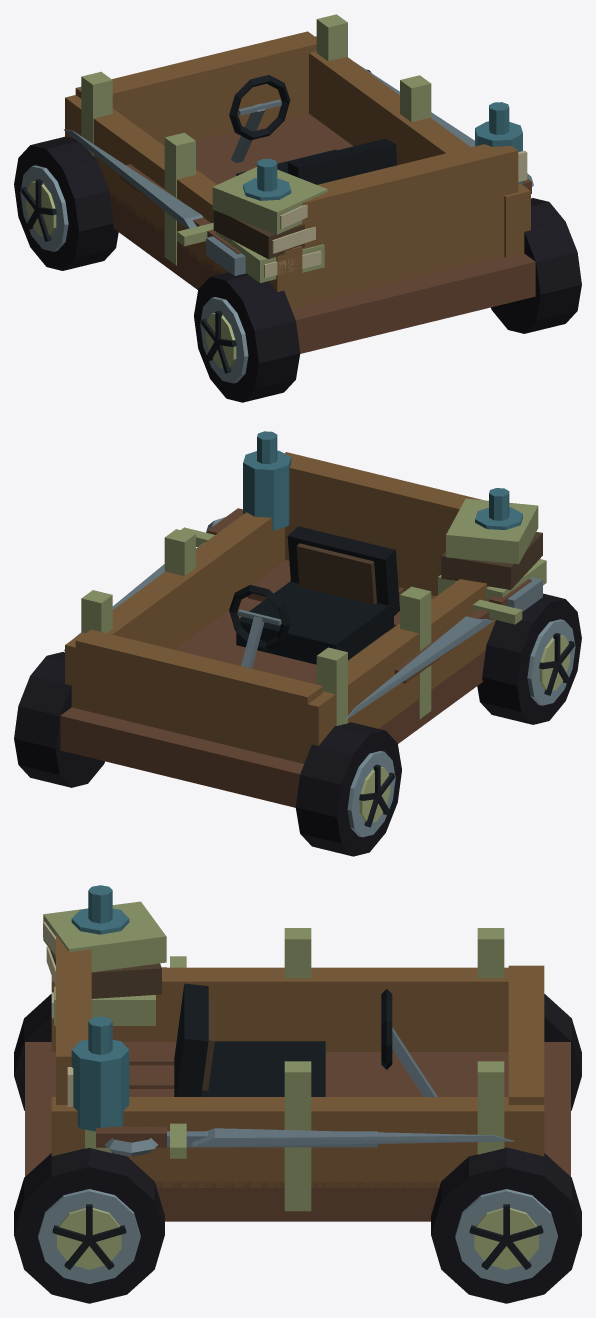
Rendered from kart.glb.
3 views of the same model, one above another, from view 1: azimuth 30°, elevation 25°; view 2: azimuth 150°, elevation 25°; view 3: azimuth 270°, elevation 25° (orthographic). The views are drawn at different scales.
Parts seen in each view (by area): view 1: identity-wagon-wagon-timber-coach, wheel-rear-left, wheel-front-left, identity-wagon-motif-books, wheel-rear-right, identity-wagon-driver-cockpit, identity-wagon-motif-swords, identity-wagon-motif-bottles, identity-wagon-motif-tools; view 2: identity-wagon-wagon-timber-coach, identity-wagon-driver-cockpit, wheel-front-left, wheel-rear-left, identity-wagon-motif-books, wheel-front-right, identity-wagon-motif-bottles, identity-wagon-motif-swords, identity-wagon-motif-tools; view 3: identity-wagon-wagon-timber-coach, wheel-front-right, wheel-rear-right, identity-wagon-driver-cockpit, identity-wagon-motif-books, identity-wagon-motif-bottles, identity-wagon-motif-swords, wheel-front-left, wheel-rear-left, identity-wagon-motif-tools.
Boxes of the visible parts, x1,y1,x2,y2 form: identity-wagon-wagon-timber-coach: (65, 14, 535, 353); wheel-rear-left: (194, 272, 300, 402); wheel-front-left: (14, 136, 118, 270); identity-wagon-motif-books: (212, 167, 327, 282); wheel-rear-right: (491, 198, 581, 333); identity-wagon-driver-cockpit: (229, 75, 397, 184); identity-wagon-motif-swords: (64, 63, 531, 254); identity-wagon-motif-bottles: (243, 102, 527, 200); identity-wagon-motif-tools: (119, 164, 533, 275); identity-wagon-wagon-timber-coach: (60, 452, 495, 807); identity-wagon-driver-cockpit: (229, 526, 399, 668); wheel-front-left: (295, 722, 401, 856); wheel-rear-left: (477, 593, 581, 724); identity-wagon-motif-books: (438, 498, 546, 601); wheel-front-right: (14, 652, 104, 787); identity-wagon-motif-bottles: (243, 431, 522, 530); identity-wagon-motif-swords: (64, 508, 531, 719); identity-wagon-motif-tools: (196, 517, 542, 683); identity-wagon-wagon-timber-coach: (25, 928, 570, 1221); wheel-front-right: (431, 1147, 581, 1303); wheel-rear-right: (14, 1148, 164, 1303); identity-wagon-driver-cockpit: (174, 983, 437, 1096); identity-wagon-motif-books: (43, 901, 166, 1025); identity-wagon-motif-bottles: (67, 885, 129, 1131); identity-wagon-motif-swords: (96, 956, 514, 1158); wheel-front-left: (544, 994, 581, 1110); wheel-rear-left: (14, 994, 51, 1110); identity-wagon-motif-tools: (105, 1131, 377, 1156).
Bounding box in the file's own units: 2.07 × 1.27 × 2.56.
